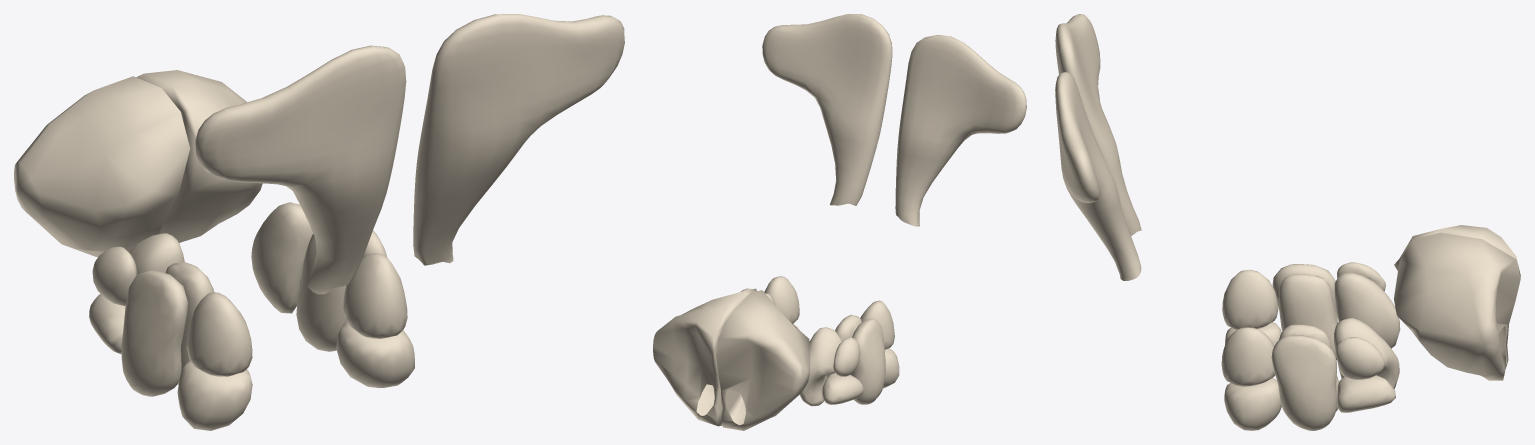
The model's file is skeletal.head.glb.
3 views of the same model, side by side, from view 1: azimuth 30°, elevation 25°; view 2: azimuth 150°, elevation 25°; view 3: azimuth 270°, elevation 25° (orthographic). The views are drawn at different scales.
Visible parts, largest first — view 1: sinus_of_frontal_bone, sinus_of_sphenoid_bone, right_middle_cells_of_ethmoid_bone, right_anterior_cells_of_ethmoid_bone, left_anterior_cells_of_ethmoid_bone, right_posterior_cells_of_ethmoid_bone, left_posterior_cells_of_ethmoid_bone, left_middle_cells_of_ethmoid_bone; view 2: sinus_of_frontal_bone, sinus_of_sphenoid_bone, right_posterior_cells_of_ethmoid_bone, right_middle_cells_of_ethmoid_bone, right_anterior_cells_of_ethmoid_bone, left_anterior_cells_of_ethmoid_bone; view 3: sinus_of_sphenoid_bone, sinus_of_frontal_bone, left_middle_cells_of_ethmoid_bone, left_anterior_cells_of_ethmoid_bone, left_posterior_cells_of_ethmoid_bone, right_middle_cells_of_ethmoid_bone, right_posterior_cells_of_ethmoid_bone, right_anterior_cells_of_ethmoid_bone.
Boxes of the visible parts, x1,y1,x2,y2 form: sinus_of_frontal_bone: [195, 14, 624, 294]; sinus_of_sphenoid_bone: [14, 70, 262, 256]; right_middle_cells_of_ethmoid_bone: [121, 262, 214, 396]; right_anterior_cells_of_ethmoid_bone: [177, 292, 252, 430]; left_anterior_cells_of_ethmoid_bone: [336, 253, 414, 388]; right_posterior_cells_of_ethmoid_bone: [89, 233, 184, 354]; left_posterior_cells_of_ethmoid_bone: [251, 202, 313, 313]; left_middle_cells_of_ethmoid_bone: [296, 230, 386, 351]; sinus_of_frontal_bone: [762, 14, 1026, 226]; sinus_of_sphenoid_bone: [653, 288, 809, 430]; right_posterior_cells_of_ethmoid_bone: [799, 327, 863, 406]; right_middle_cells_of_ethmoid_bone: [827, 314, 885, 404]; right_anterior_cells_of_ethmoid_bone: [860, 300, 899, 388]; left_anterior_cells_of_ethmoid_bone: [764, 276, 799, 329]; sinus_of_sphenoid_bone: [1394, 225, 1520, 380]; sinus_of_frontal_bone: [1055, 14, 1141, 280]; left_middle_cells_of_ethmoid_bone: [1271, 324, 1338, 430]; left_anterior_cells_of_ethmoid_bone: [1221, 327, 1281, 430]; left_posterior_cells_of_ethmoid_bone: [1334, 318, 1399, 412]; right_middle_cells_of_ethmoid_bone: [1272, 264, 1337, 360]; right_posterior_cells_of_ethmoid_bone: [1334, 262, 1400, 348]; right_anterior_cells_of_ethmoid_bone: [1222, 269, 1281, 345].
Size of the model in its own units: 0.0514 by 0.0538 by 0.0658.
